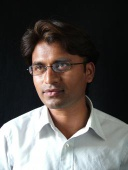male: (25, 19, 99, 115)
